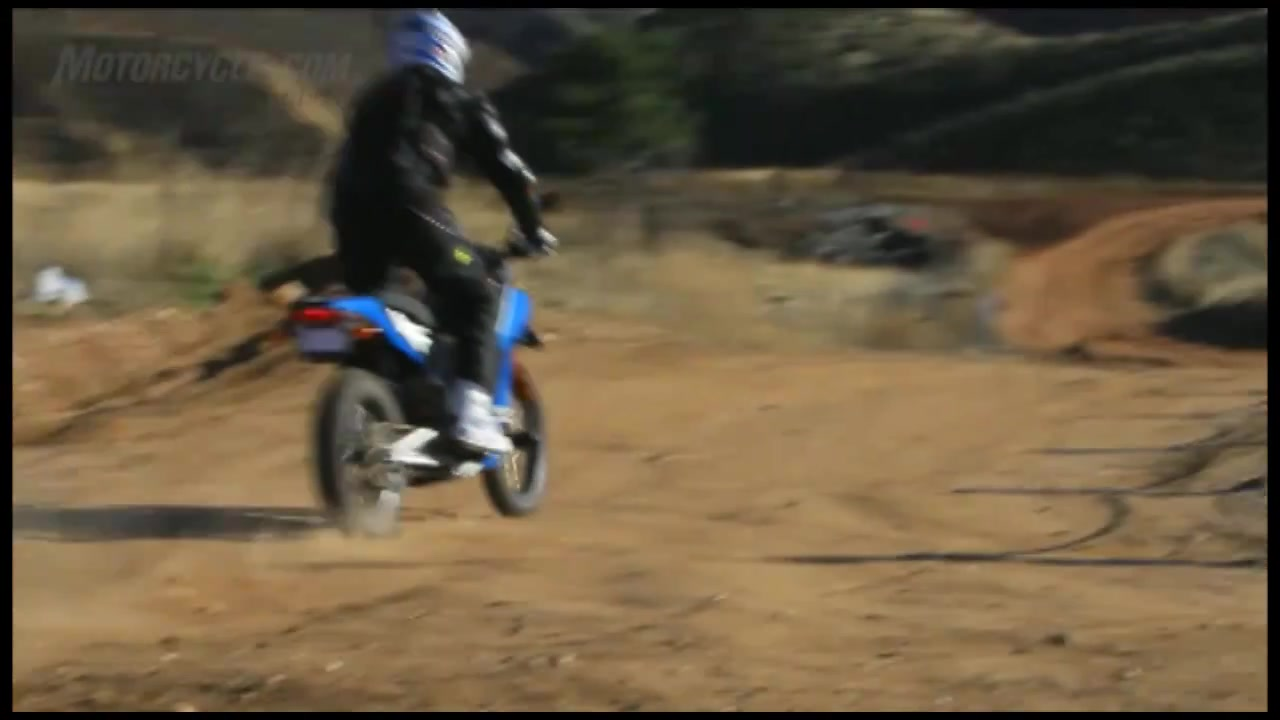motorbike: (289, 220, 562, 541)
